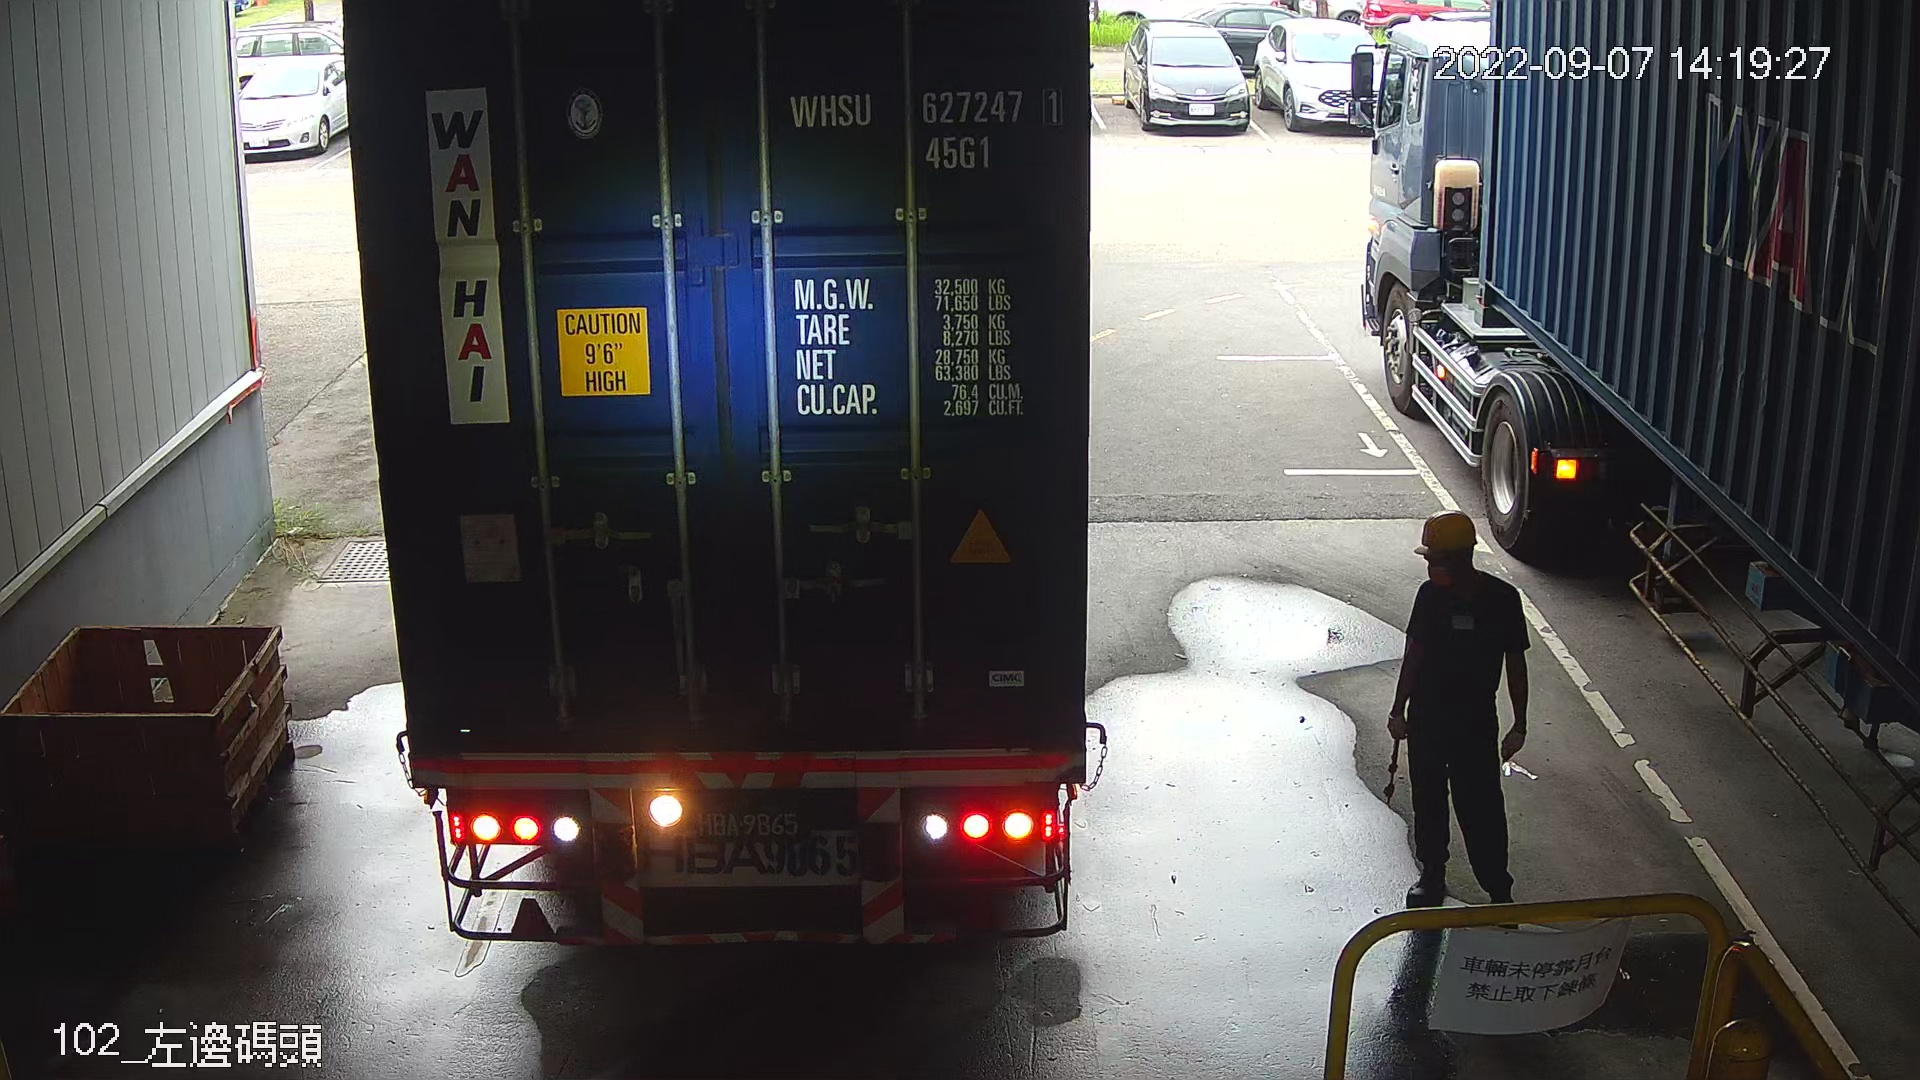container: (779, 73, 1073, 182)
